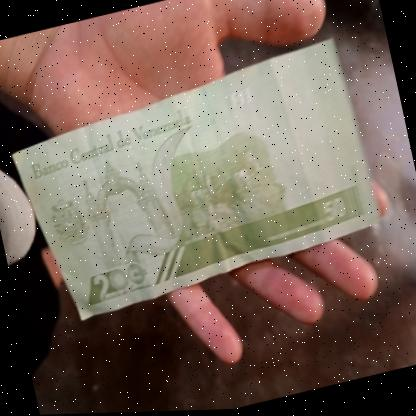vef_back: (3, 38, 382, 329)
